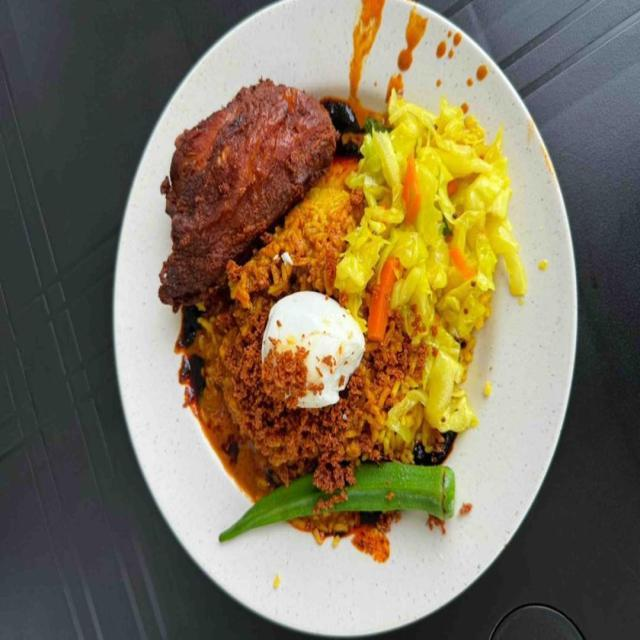Chicken: (157, 84, 335, 292)
Egg: (262, 292, 363, 410)
Plate: (119, 0, 573, 634)
Rice: (200, 164, 404, 472)
Vegetables: (338, 88, 526, 453), (218, 467, 450, 540)
